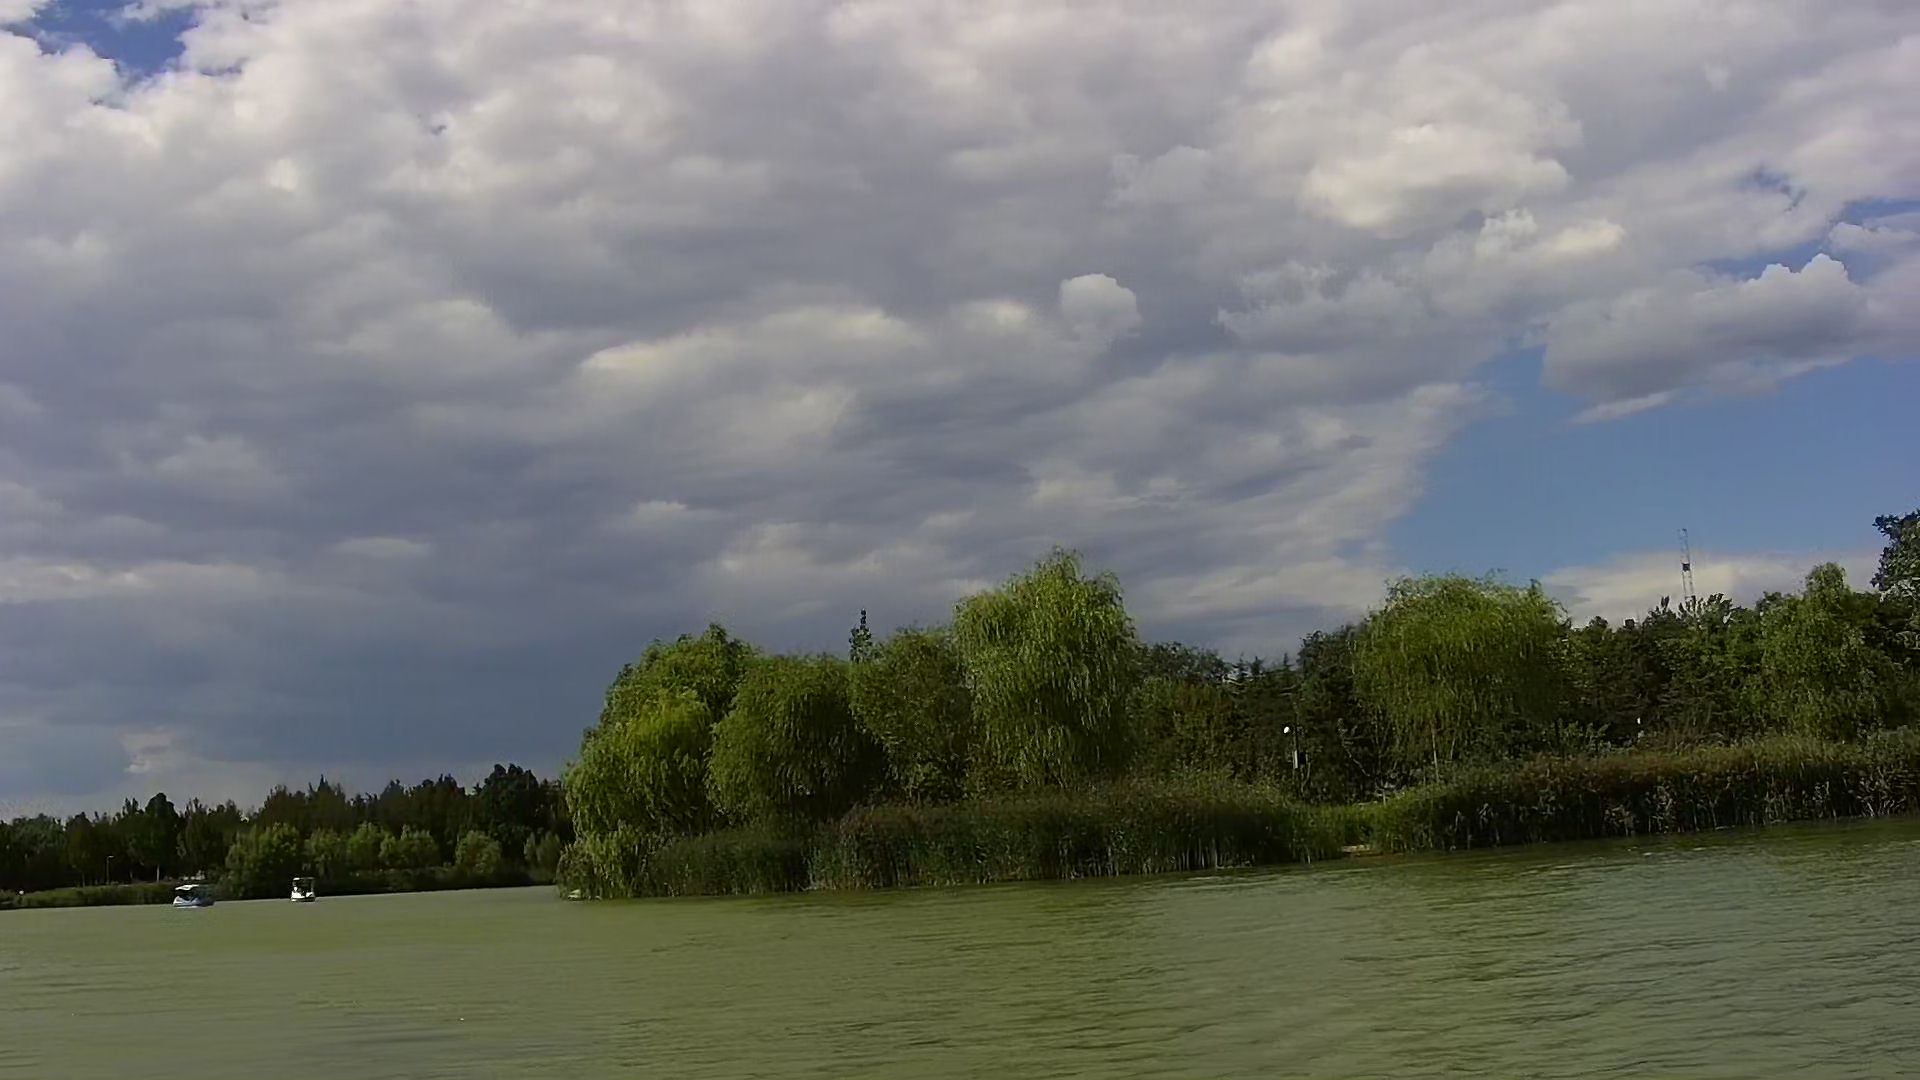boat: (164, 884, 215, 913), (285, 873, 324, 906)
